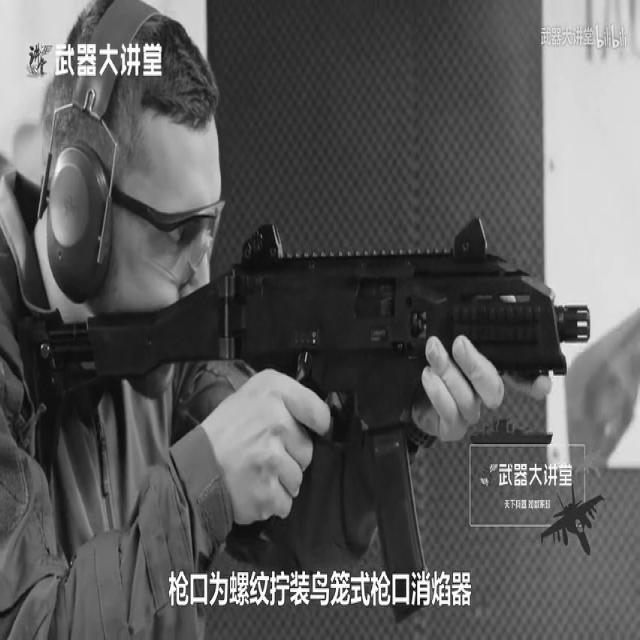Sub-machine-gun: (27, 223, 597, 582)
